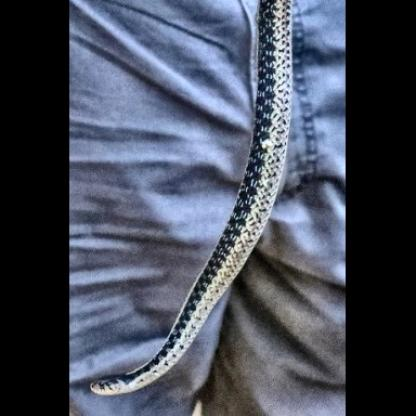Snake: (88, 6, 296, 401)
